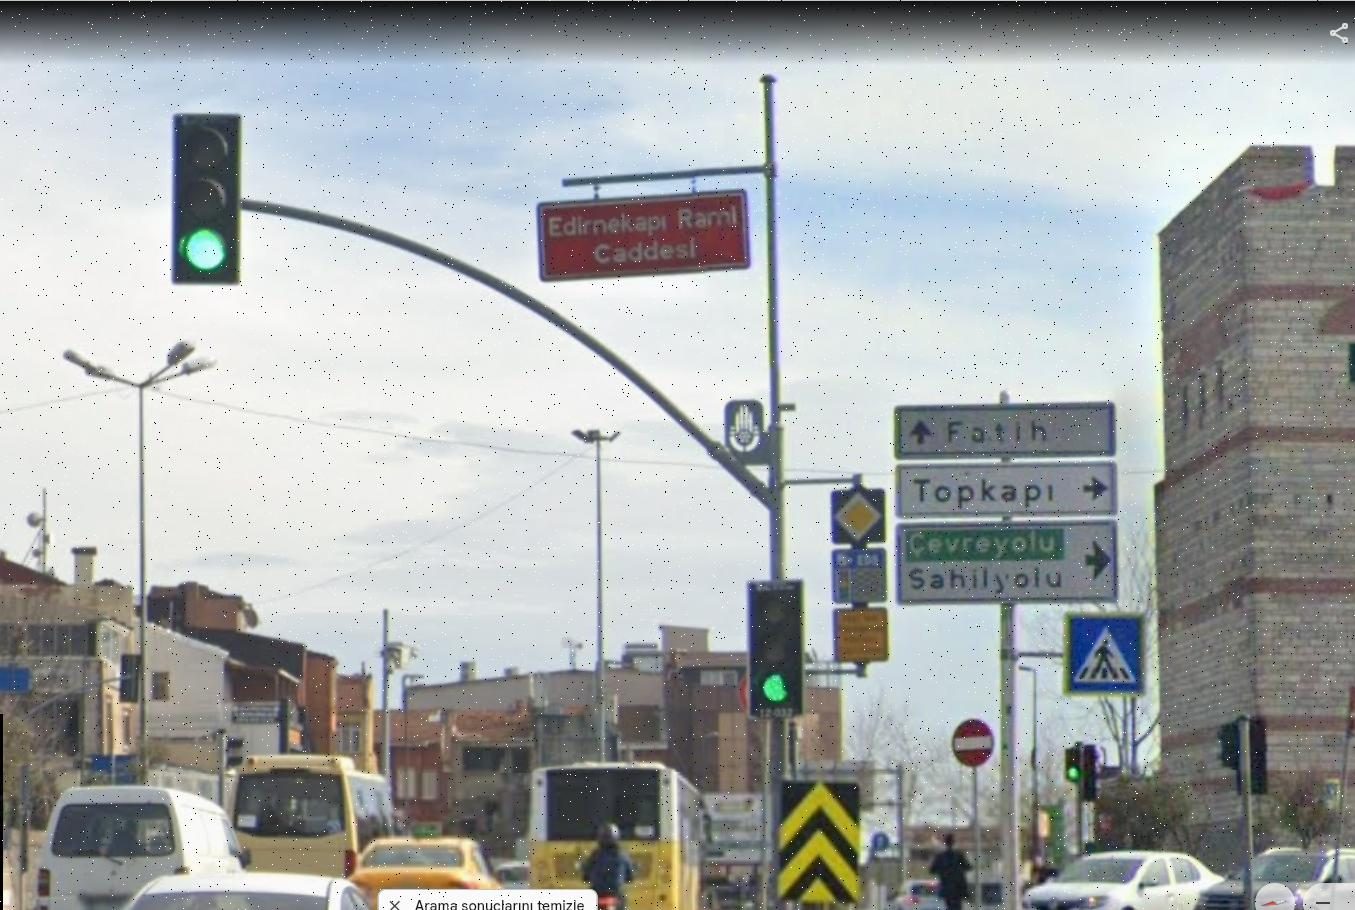greenlight: (179, 113, 233, 273), (751, 584, 801, 709)
